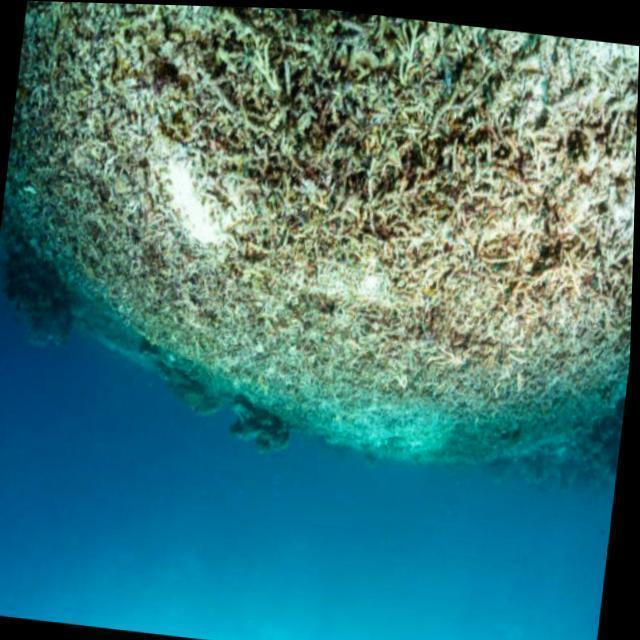Dead Coral: (90, 86, 599, 415)
